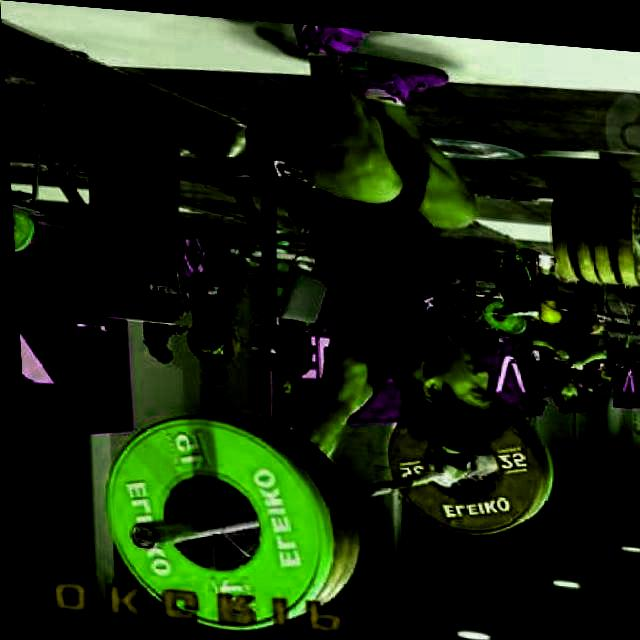barbell: (86, 392, 360, 640)
